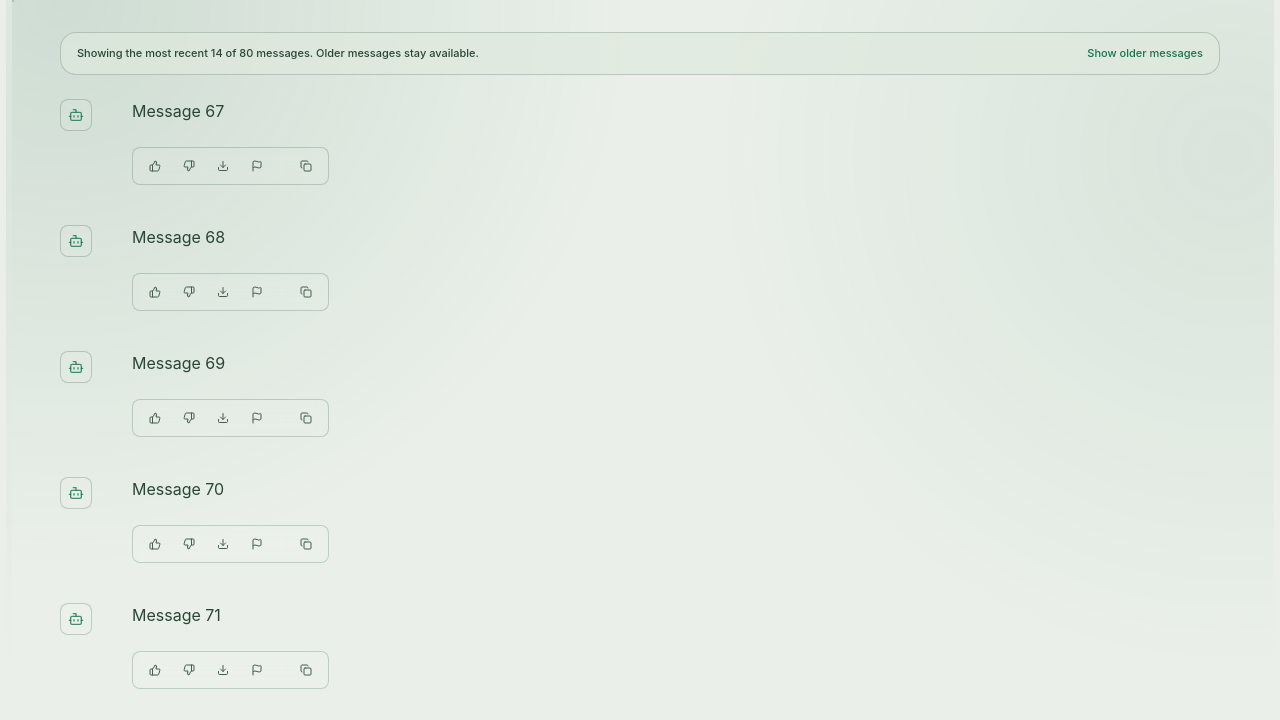
DeepSpaceThread virtualization › bounds a long streaming thread and reveals older messages on demand
expect the text "Message 67" is shown: met, box [132,100,224,120]
Step 1. Click the button "Show older messages" → (1145, 53), box [1087,45,1203,62]
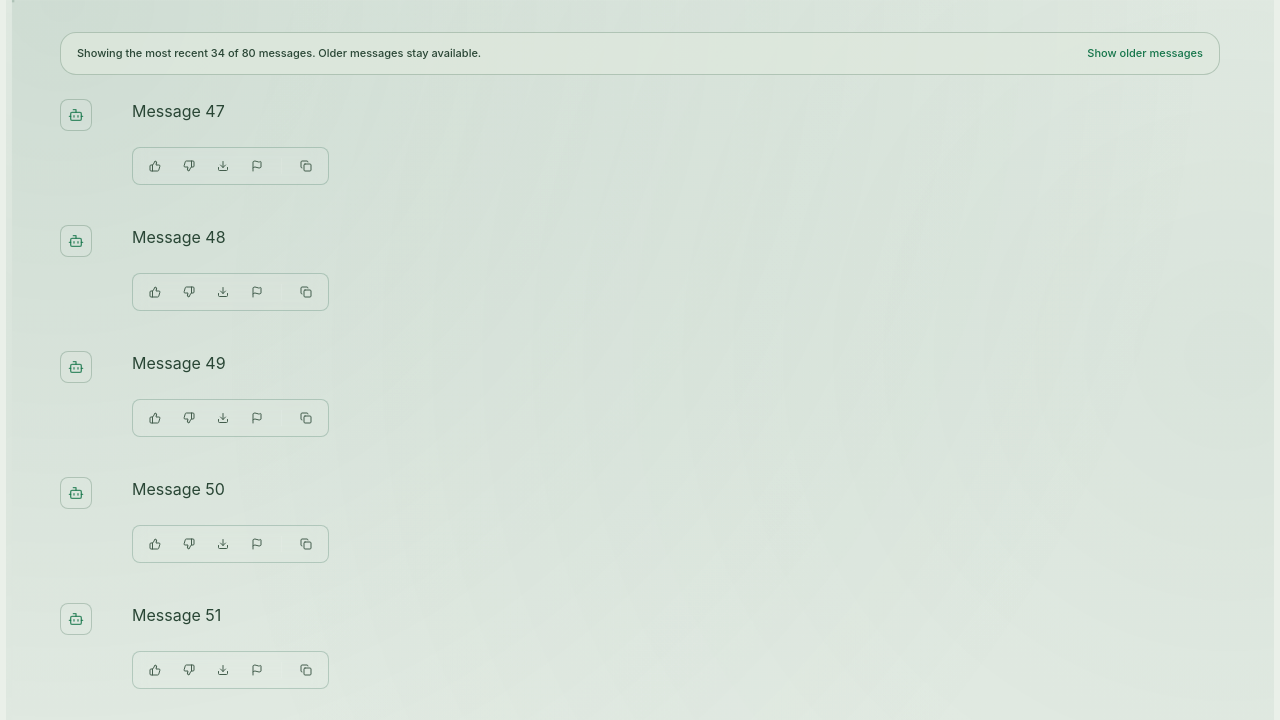
expect the text "Message 47" is shown: met, box [132,100,225,120]
